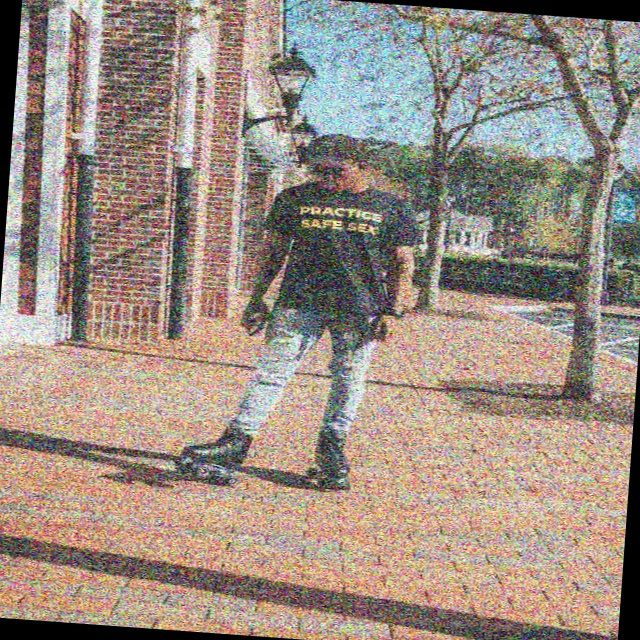ripped_pants: (227, 305, 384, 444)
